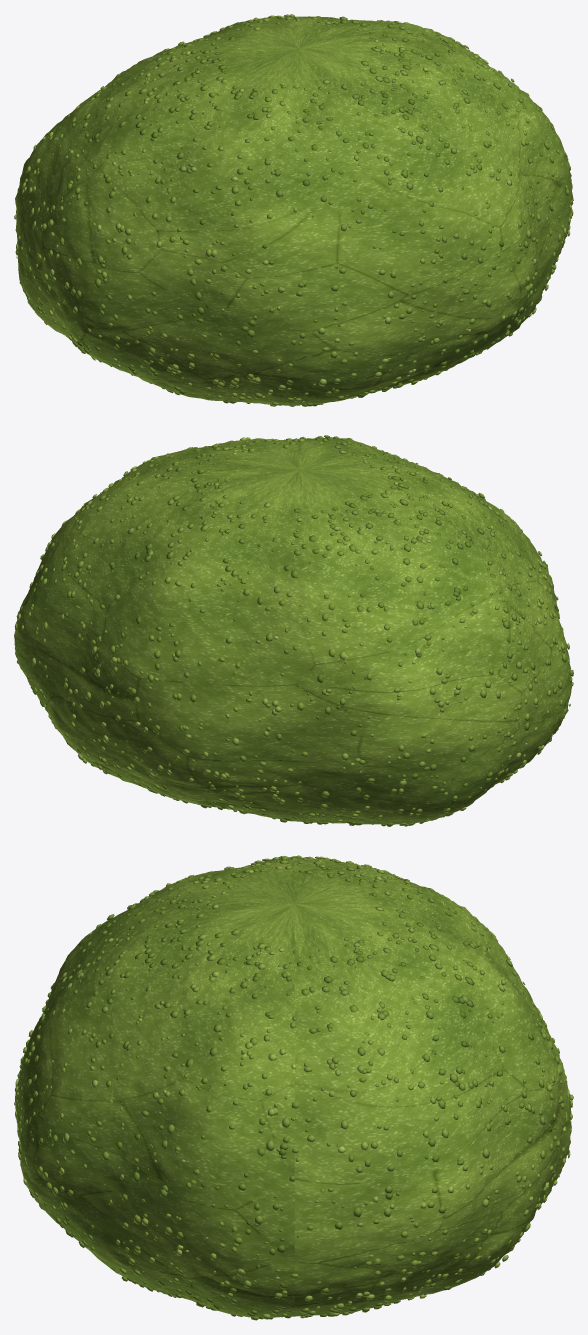
Rendered from Green_Botamochi.glb.
3 renders of one model, top to bottom at view 1: azimuth 30°, elevation 25°; view 2: azimuth 150°, elevation 25°; view 3: azimuth 270°, elevation 25°, orthographic. The views are drawn at different scales.
Visible parts, largest first — view 1: Green_Botamochi; view 2: Green_Botamochi; view 3: Green_Botamochi.
Part boxes in pixels (left/top/right/bottom): Green_Botamochi: left=14, top=14, right=573, bottom=406; Green_Botamochi: left=14, top=435, right=573, bottom=826; Green_Botamochi: left=14, top=855, right=573, bottom=1320.
Size of the model in its own units: 0.0696 by 0.039 by 0.0595.
1 material, 1 textured.
